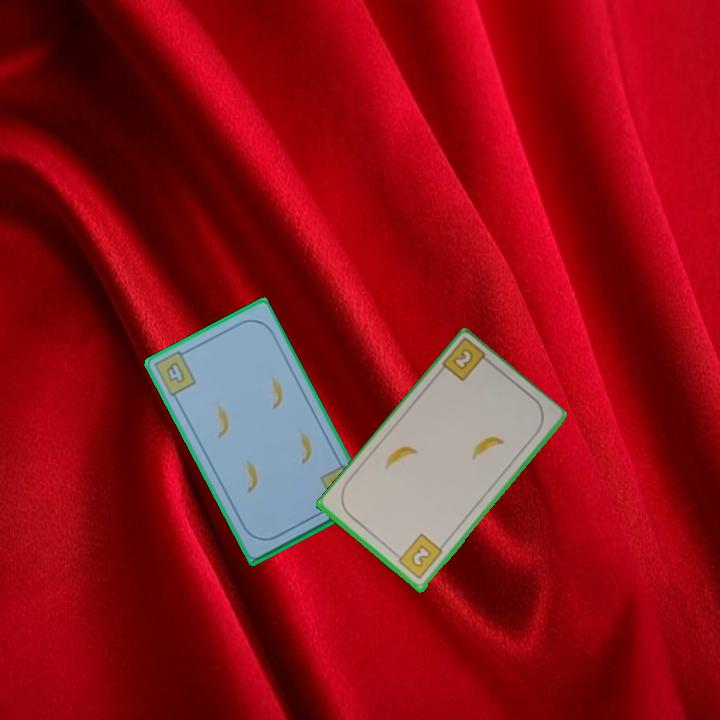2b: (391, 531, 446, 582), (438, 337, 495, 385)
4b: (153, 346, 199, 399)
